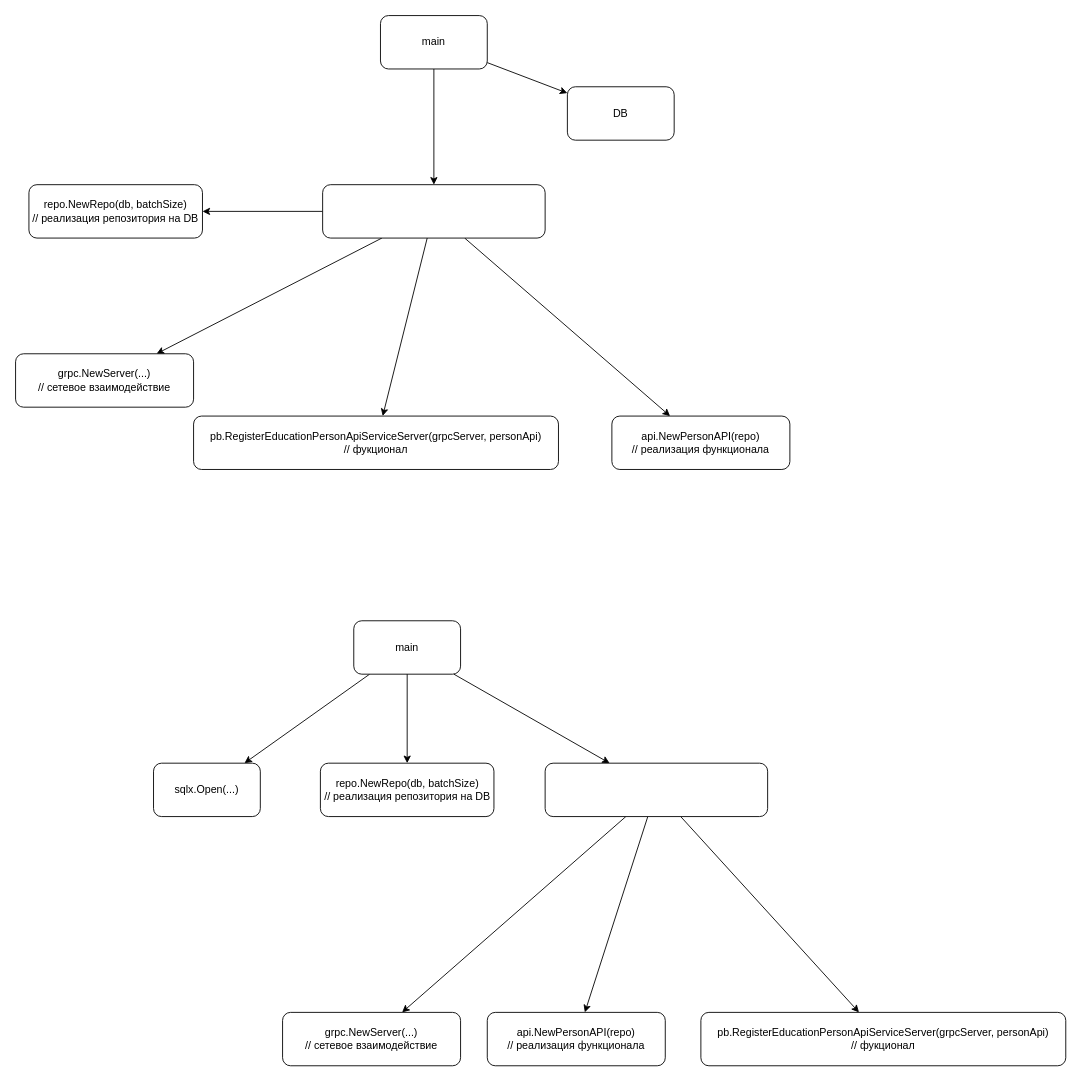
The diagram is 1081 pixels wide and 1081 high, and some of its shapes have lost their labels. The shapes that lost their labels are listed below. From the top down, each one's centre as x and y in pixels, then its label:
At point (433, 211): "NewServer(db, batchSize).Start() // зачем серверу db и batchSize?".
At point (656, 789): "NewServer(repo).Start() // зачем серверу db и batchSize?".
